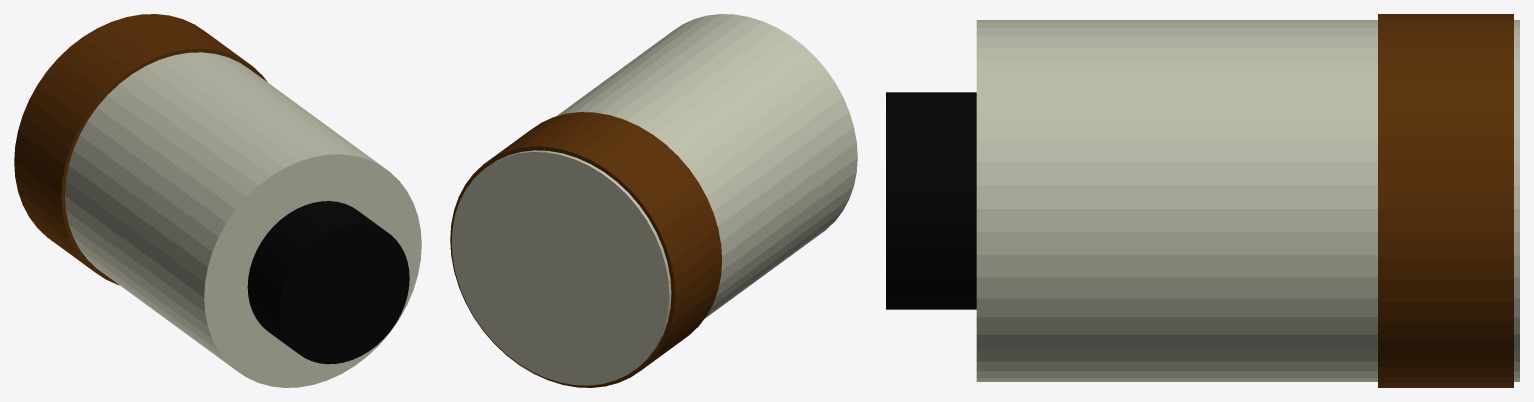
Rendered from grease_collector_ok.obj.
The picture shows the model from 3 angles, left to right: view 1: azimuth 30°, elevation 25°; view 2: azimuth 150°, elevation 25°; view 3: azimuth 270°, elevation 25°; orthographic projection. The views are drawn at different scales.
Visible parts, largest first — view 1: grease_collector_ok; view 2: grease_collector_ok; view 3: grease_collector_ok.
Part boxes in pixels (x1,y1,x2,y2): grease_collector_ok: (14, 14, 421, 387); grease_collector_ok: (450, 14, 857, 387); grease_collector_ok: (886, 14, 1519, 387).
Bounding box in the file's own units: 0.124 × 0.124 × 0.21.
